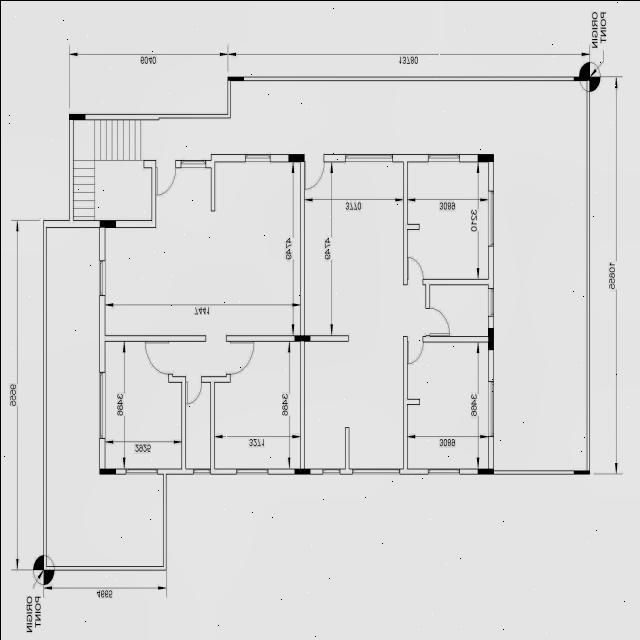Column: (487, 327, 493, 349), (99, 219, 115, 227), (477, 153, 493, 161), (288, 153, 304, 161), (68, 113, 84, 119), (294, 334, 310, 340), (573, 469, 589, 474), (99, 468, 115, 473), (294, 468, 310, 473), (477, 468, 492, 473), (572, 76, 588, 80), (227, 76, 243, 80)
Door: (224, 339, 254, 377), (144, 339, 174, 375), (424, 306, 449, 336), (154, 166, 176, 196), (302, 159, 324, 189), (184, 374, 202, 404), (405, 334, 423, 364), (405, 255, 423, 285)
Staircase: (71, 117, 153, 221)
Window: (98, 369, 106, 439), (344, 152, 392, 162), (486, 378, 494, 438), (486, 188, 494, 246), (350, 467, 400, 474), (426, 152, 459, 162), (243, 152, 270, 162), (98, 258, 105, 296), (124, 466, 157, 474), (180, 158, 206, 168), (235, 467, 268, 474), (426, 467, 459, 474), (487, 286, 493, 316), (192, 466, 210, 474), (322, 468, 339, 474)
